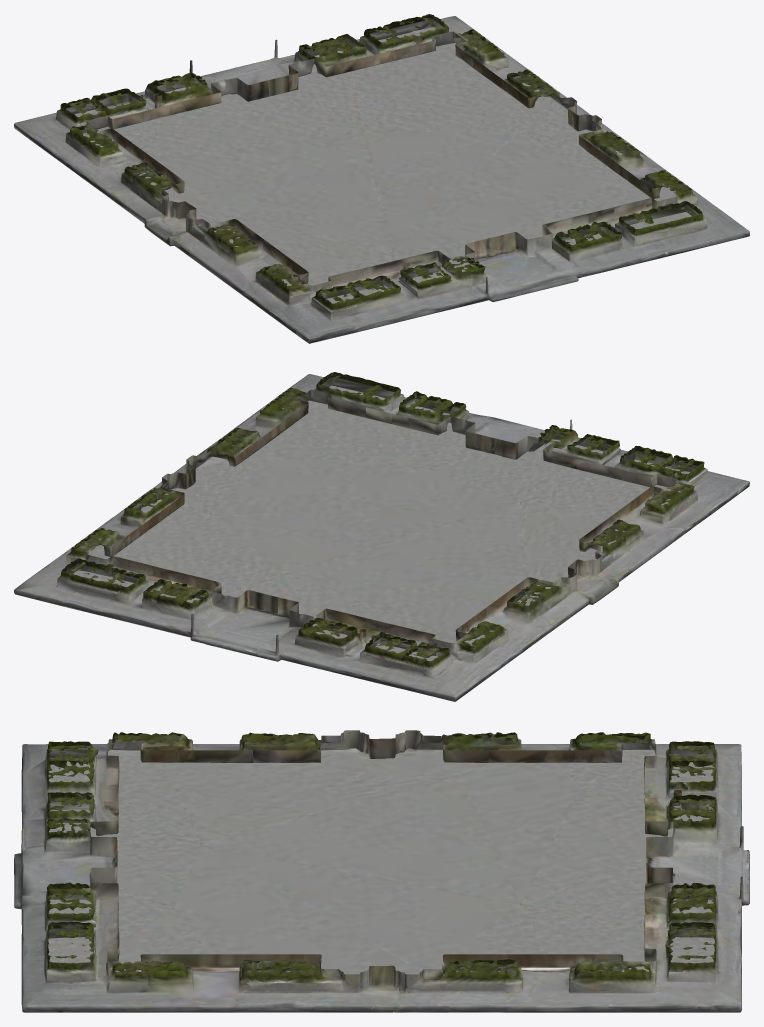
File: building-stage-0.glb
3 renders of one model, top to bottom at view 1: azimuth 30°, elevation 25°; view 2: azimuth 150°, elevation 25°; view 3: azimuth 270°, elevation 25°, orthographic. The views are drawn at different scales.
Visible parts, largest first — view 1: stage_0_ground; view 2: stage_0_ground; view 3: stage_0_ground.
Boxes of the visible parts, x1,y1,x2,y2 form: stage_0_ground: (14, 14, 749, 343); stage_0_ground: (14, 372, 749, 701); stage_0_ground: (14, 730, 749, 1012).
Bounding box in the file's own units: 0.9084 × 0.0476 × 1.07.
Materials: 1 (1 with a texture image).
